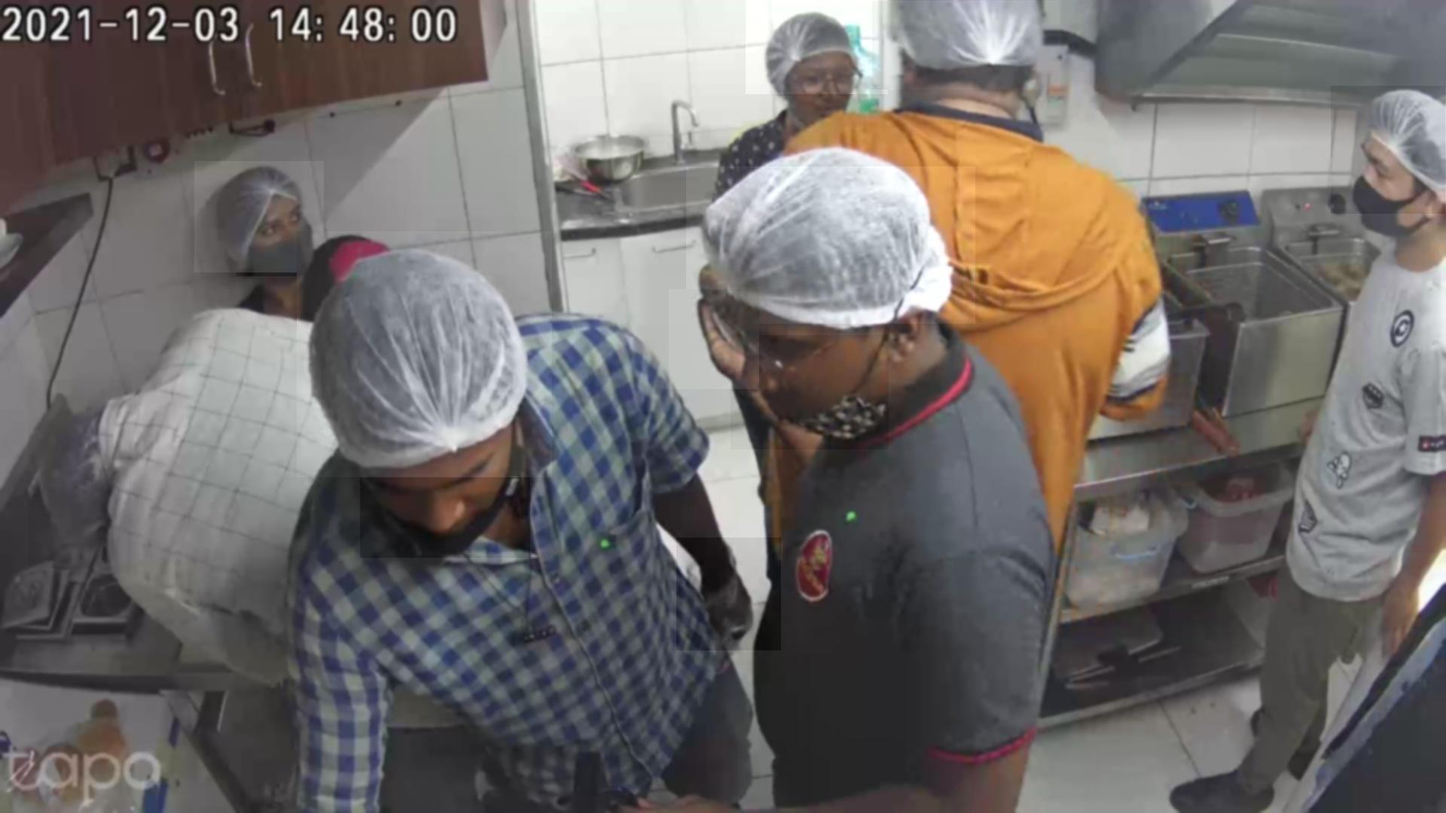apron: (676, 538, 781, 651)
gloves: (297, 232, 552, 478), (686, 167, 975, 324), (29, 380, 132, 569), (872, 1, 1060, 90), (1332, 86, 1446, 214), (194, 161, 324, 273), (746, 1, 889, 95)
mask: (1345, 172, 1426, 251), (236, 222, 322, 276)
no_apron: (1366, 553, 1446, 682), (669, 289, 759, 390)
no_hairnet: (360, 452, 530, 558), (731, 335, 889, 449), (776, 64, 862, 127)
